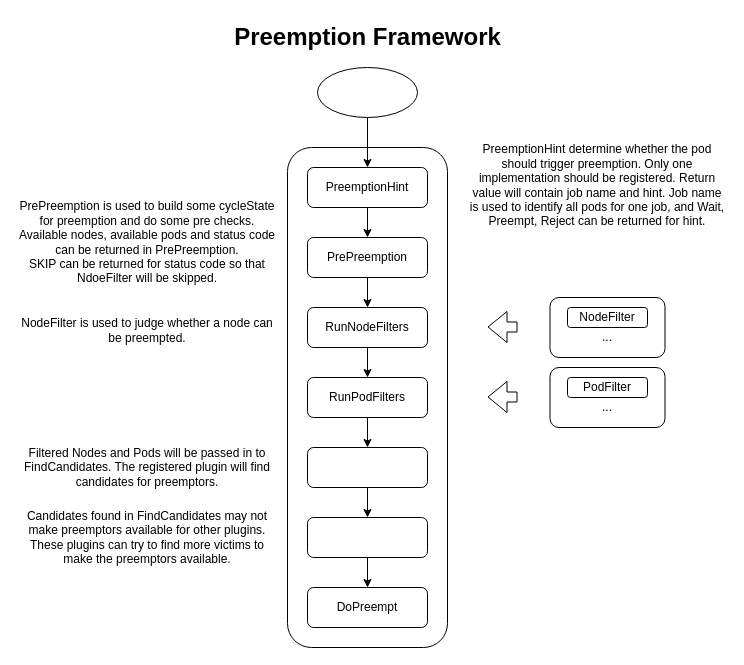
The diagram is 744 pixels wide and 665 high, and some of its shapes have lost their labels. Here are the shapes that lost their labels. From the top down, the centre of each, then its label:
point 367,92: FailedPod
point 367,467: FindCandidates
point 367,537: FindMoreVictims
